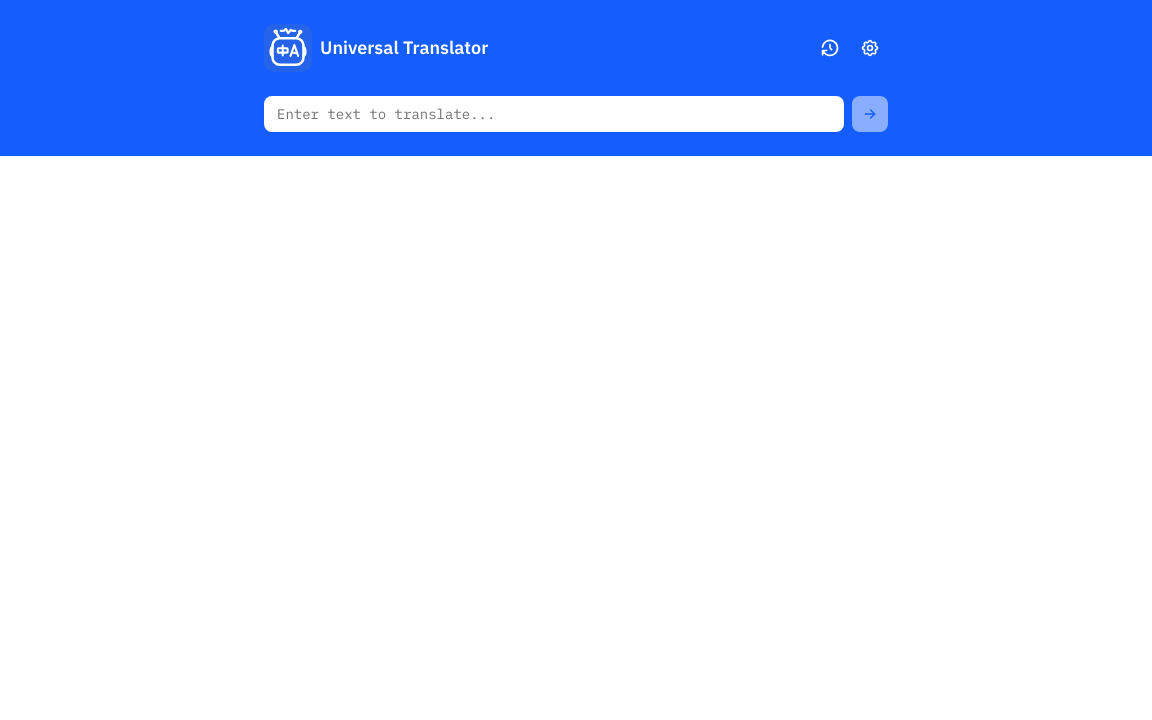
App alternate source selection › re-translates with sourceLanguageHint when alternate source is clicked
Step 1. Type "salut" into the field with placeholder "Enter text to translate..." → (554, 114), box 264,96 -> 844,132
Then press Enter
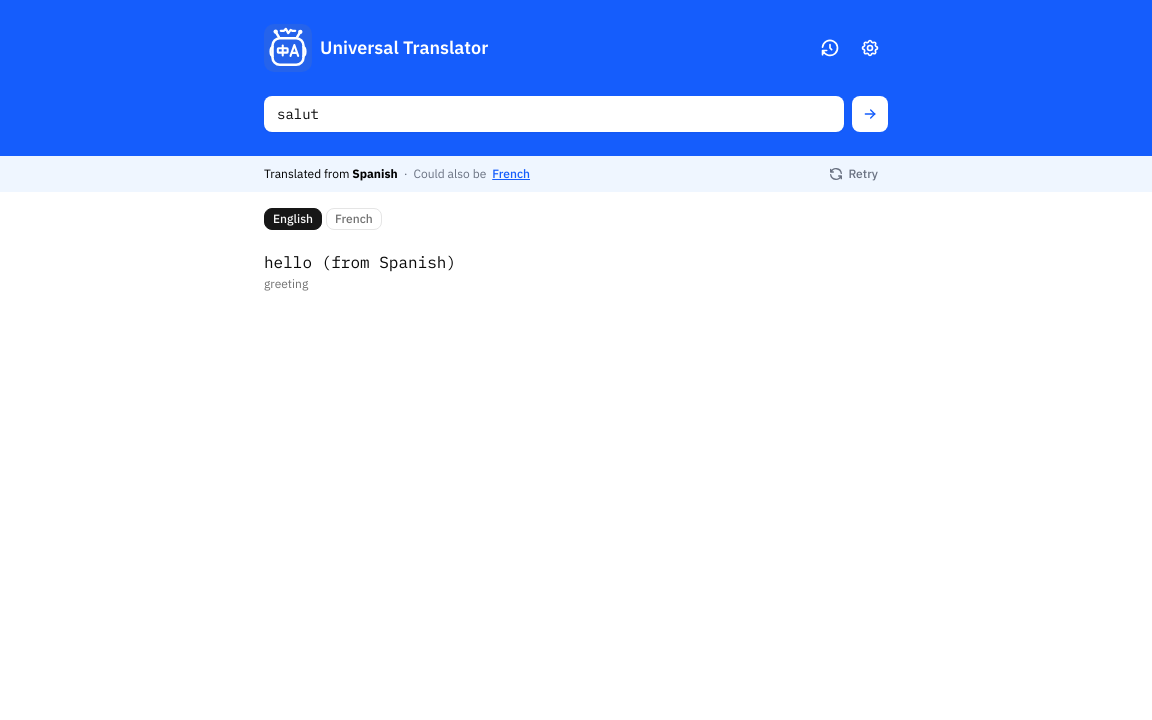
Expected: the text "hello (from Spanish)" is shown, 264,252 -> 456,272
Click the French alternate source button
Step 2. Click the button with aria-label "translate as french" → click(511, 174), box 492,166 -> 530,182
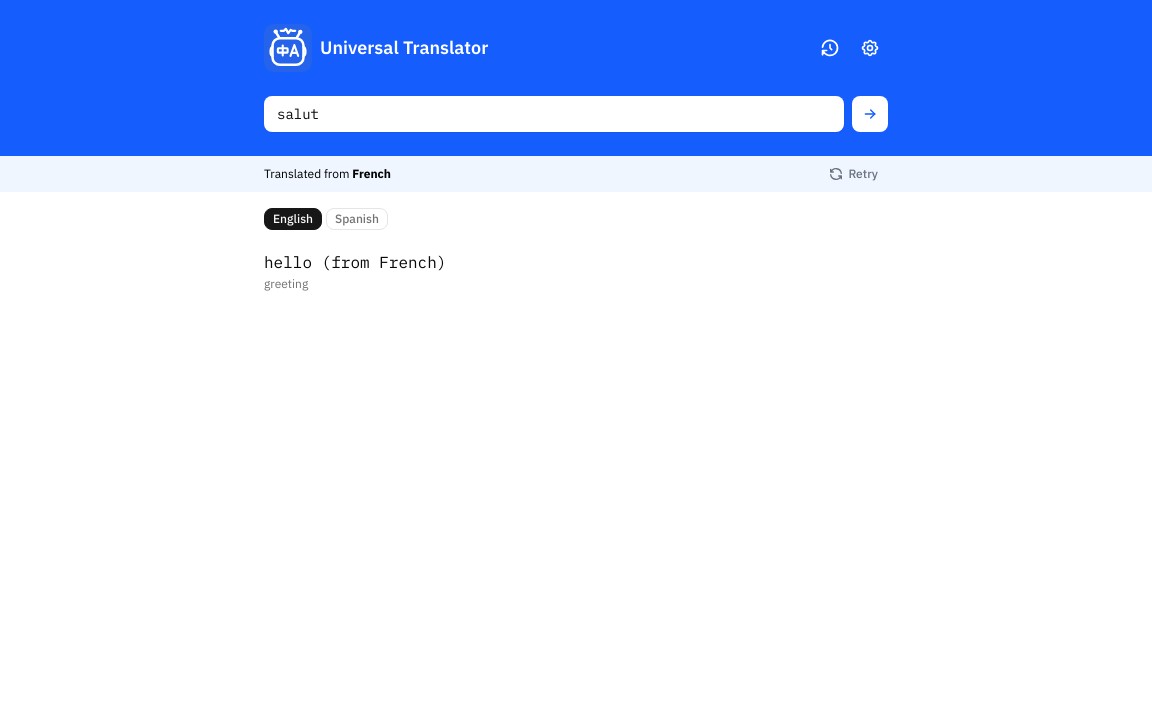
Expected: the text "hello (from French)" is shown, 264,252 -> 446,272
